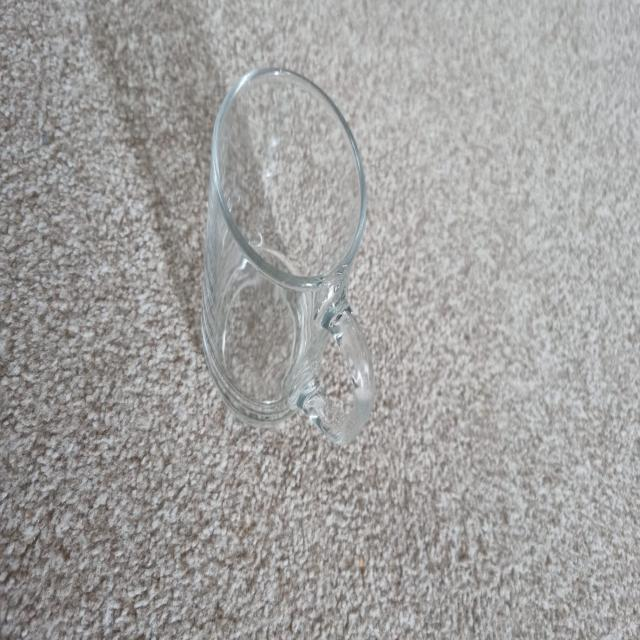Cup: (202, 68, 374, 442)
